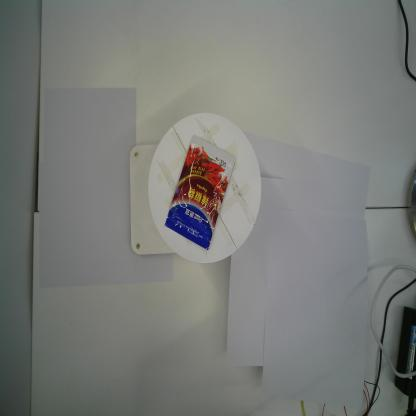Seasoner: (163, 134, 235, 251)
